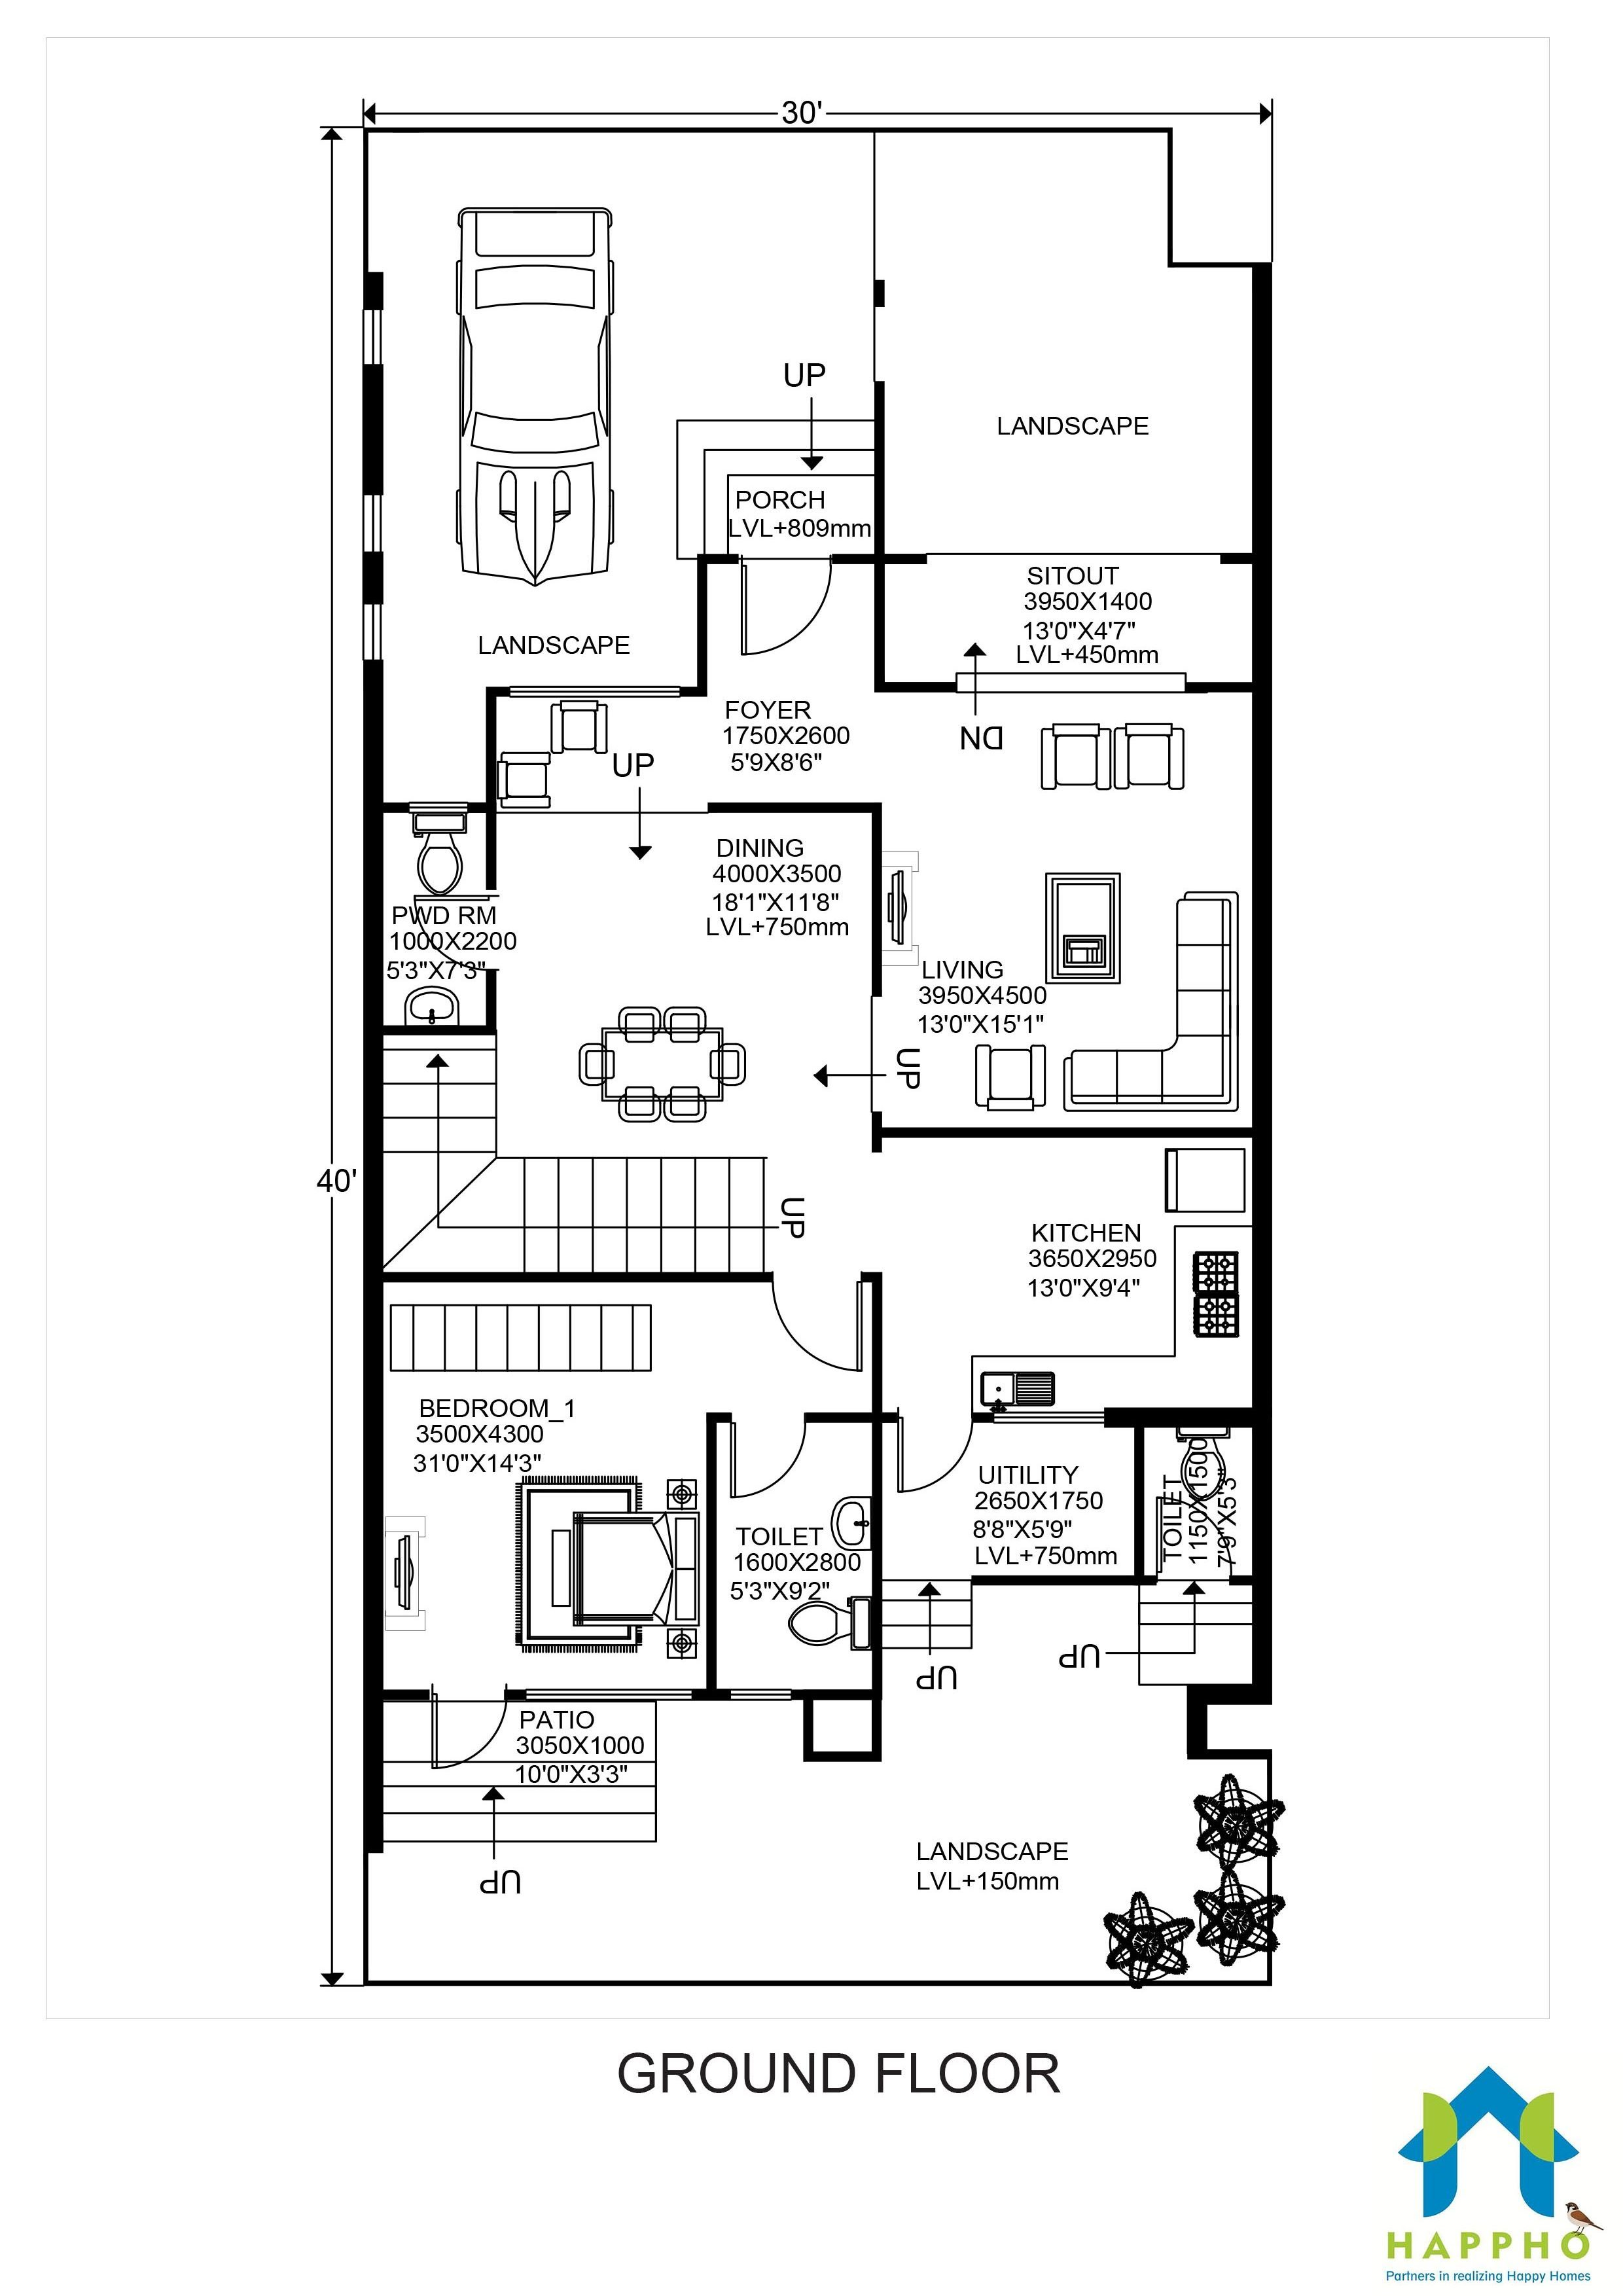window: (523, 1685, 694, 1706), (508, 682, 683, 699), (357, 492, 386, 555), (989, 1411, 1107, 1426), (360, 304, 388, 367), (360, 599, 385, 664), (729, 1688, 794, 1704)
